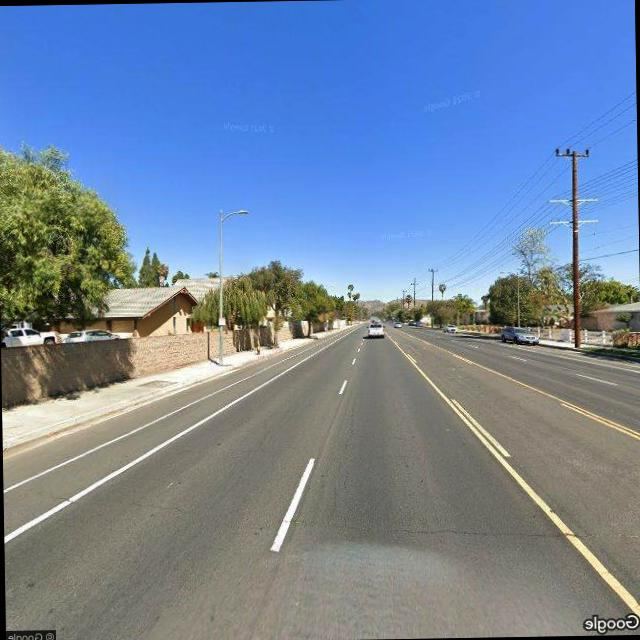crack: (255, 506, 640, 547)
